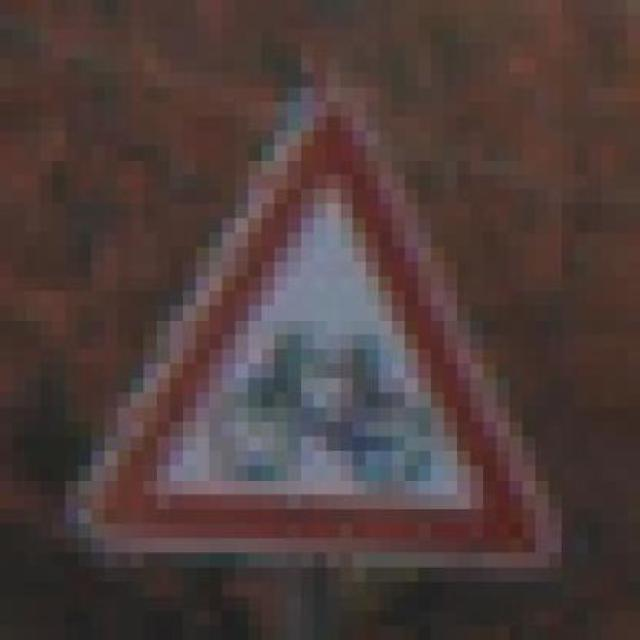CYCLE ROUTE AHEAD WARNING: (52, 44, 562, 582)
